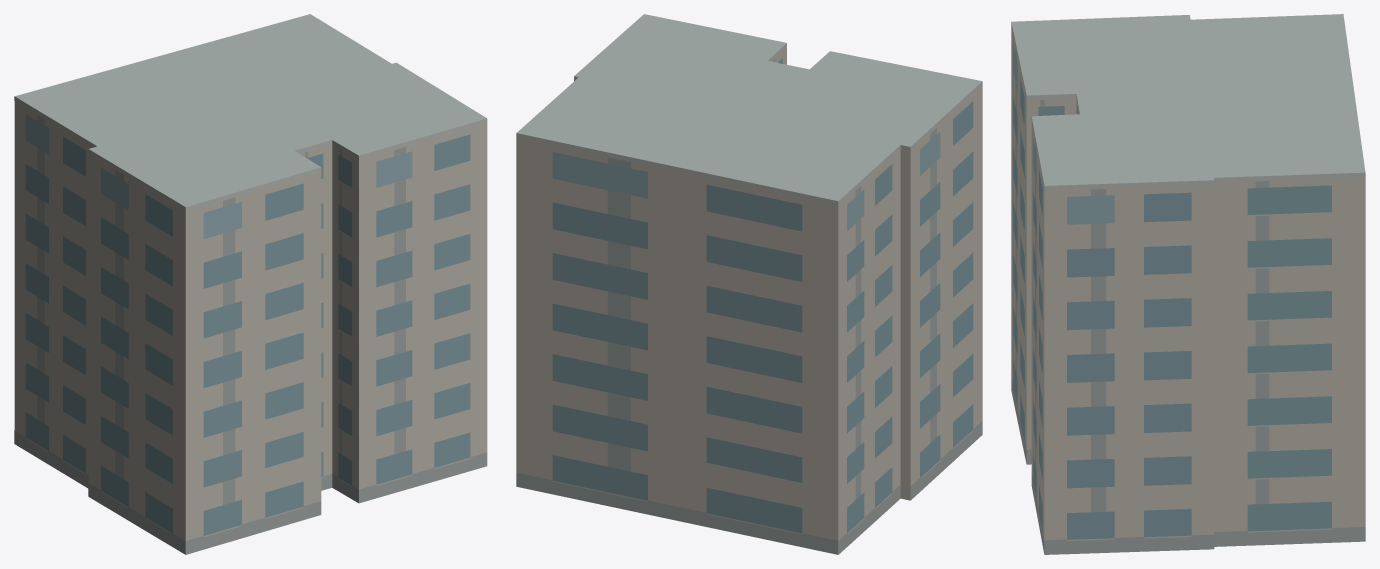
File: survey-upis-32673501.glb
3 renders of one model, left to right at view 1: azimuth 30°, elevation 25°; view 2: azimuth 150°, elevation 25°; view 3: azimuth 270°, elevation 25°, orthographic. The views are drawn at different scales.
Visible parts, largest first — view 1: survey-upis-32673501.tmp; view 2: survey-upis-32673501.tmp; view 3: survey-upis-32673501.tmp.
Boxes of the visible parts, bbox=[...] form: survey-upis-32673501.tmp: bbox=[14, 14, 487, 554]; survey-upis-32673501.tmp: bbox=[516, 14, 982, 554]; survey-upis-32673501.tmp: bbox=[1011, 14, 1365, 554].
Bounding box in the file's own units: 17.89 × 17.9 × 15.58.
